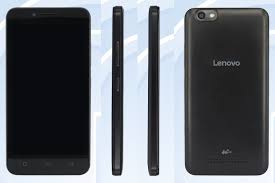lenovo: (182, 4, 271, 178), (4, 5, 91, 177)
